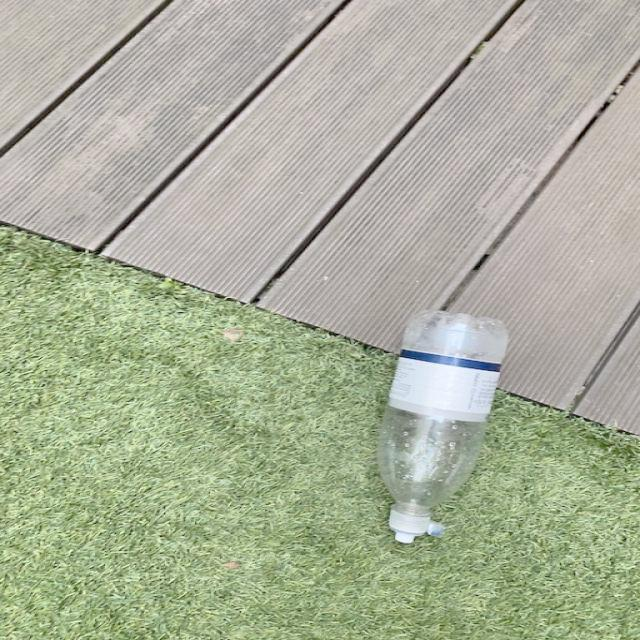bottle: (377, 310, 509, 543)
